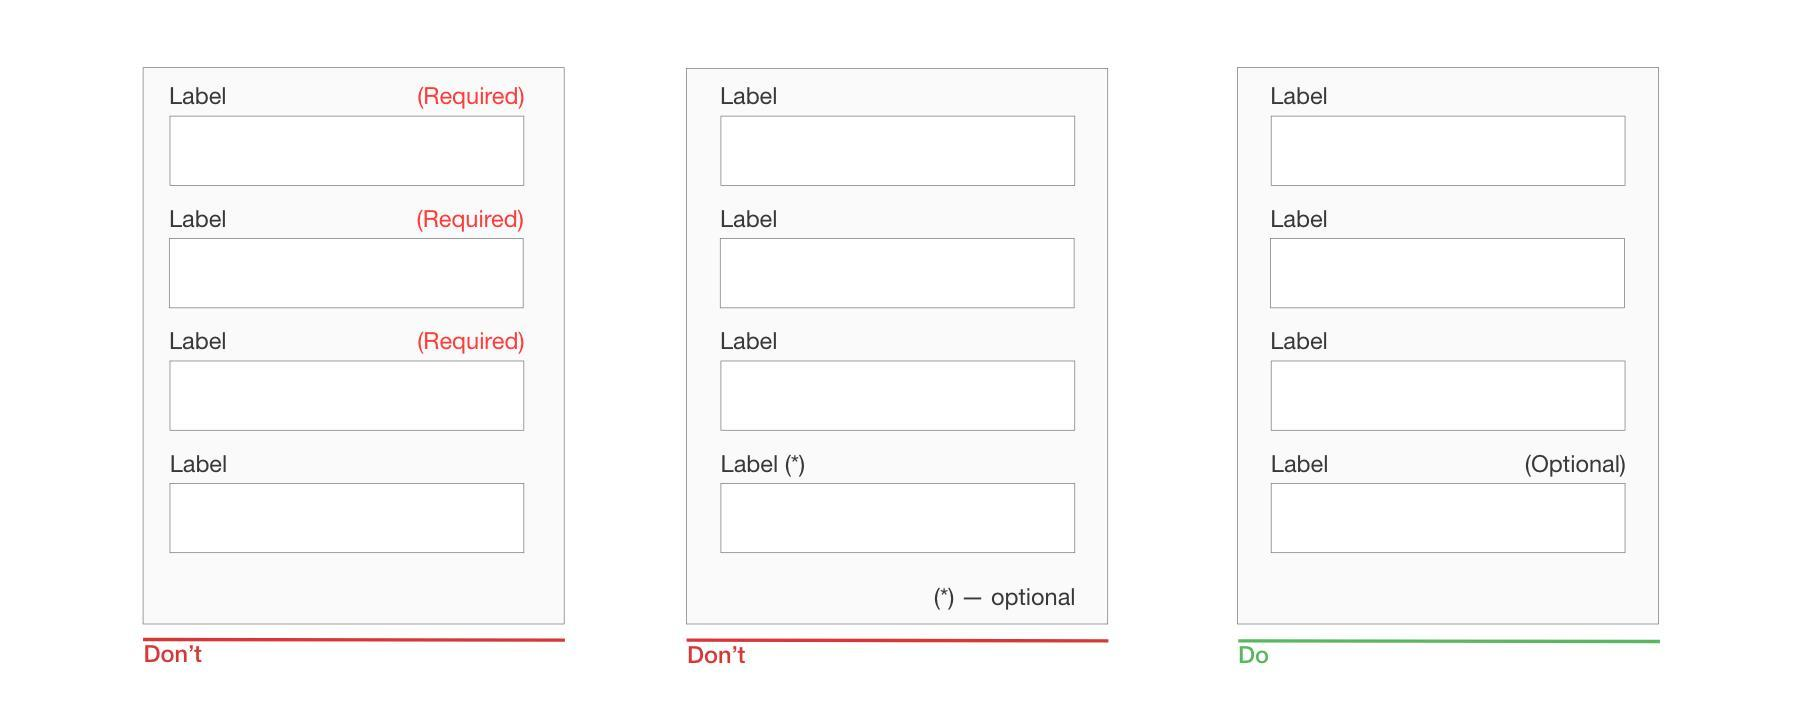input: (166, 112, 528, 191), (1268, 356, 1629, 436), (166, 480, 529, 558), (166, 359, 531, 436), (1267, 113, 1630, 190), (717, 359, 1079, 436), (1267, 479, 1629, 556), (718, 237, 1080, 313), (718, 113, 1079, 189), (718, 480, 1080, 555), (171, 236, 526, 309), (1271, 237, 1626, 311)
label: (718, 452, 806, 478), (716, 327, 783, 360), (165, 449, 233, 477), (716, 83, 783, 110), (1265, 85, 1333, 111), (1268, 454, 1334, 480), (718, 207, 779, 233), (1270, 206, 1329, 232), (165, 84, 233, 105), (167, 209, 231, 232), (1265, 331, 1330, 353), (166, 330, 231, 351)
